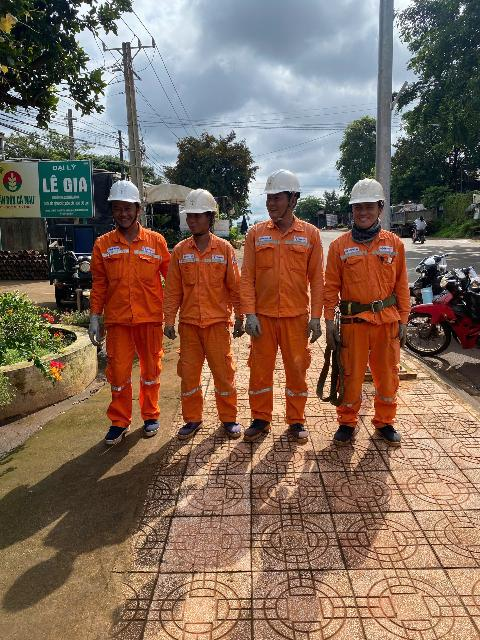gloves: (80, 309, 105, 349), (302, 312, 324, 347), (322, 318, 345, 349), (239, 305, 262, 333), (396, 322, 410, 349), (161, 322, 178, 339), (234, 313, 245, 339)
helmet: (343, 176, 387, 208), (97, 180, 144, 207), (179, 183, 216, 216), (263, 170, 302, 197)
shoes: (372, 417, 410, 449), (95, 417, 128, 448), (242, 410, 272, 444), (284, 414, 313, 449), (171, 416, 213, 439), (330, 414, 357, 447), (219, 410, 242, 441), (135, 417, 167, 438)
